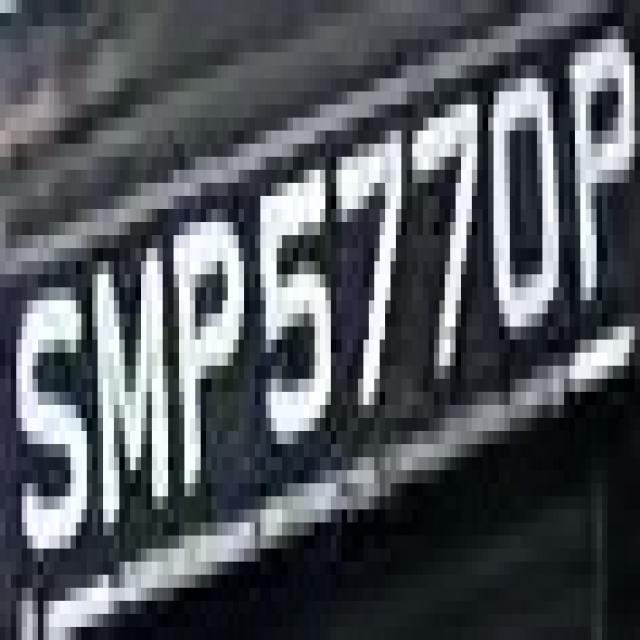0: (483, 65, 564, 379)
5: (244, 118, 342, 431)
7: (385, 131, 494, 405), (326, 104, 412, 418)
M: (81, 235, 190, 523)
P: (168, 183, 250, 483), (558, 39, 640, 339)
S: (16, 235, 98, 575)
